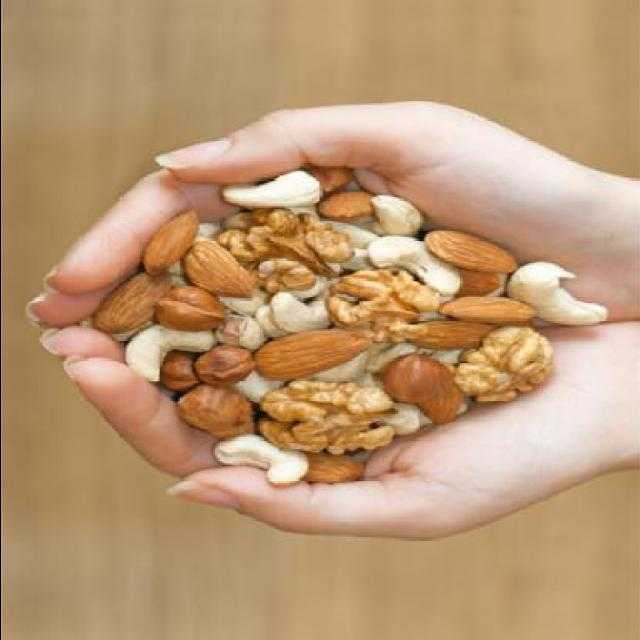Frutta secca: (88, 158, 584, 487)
